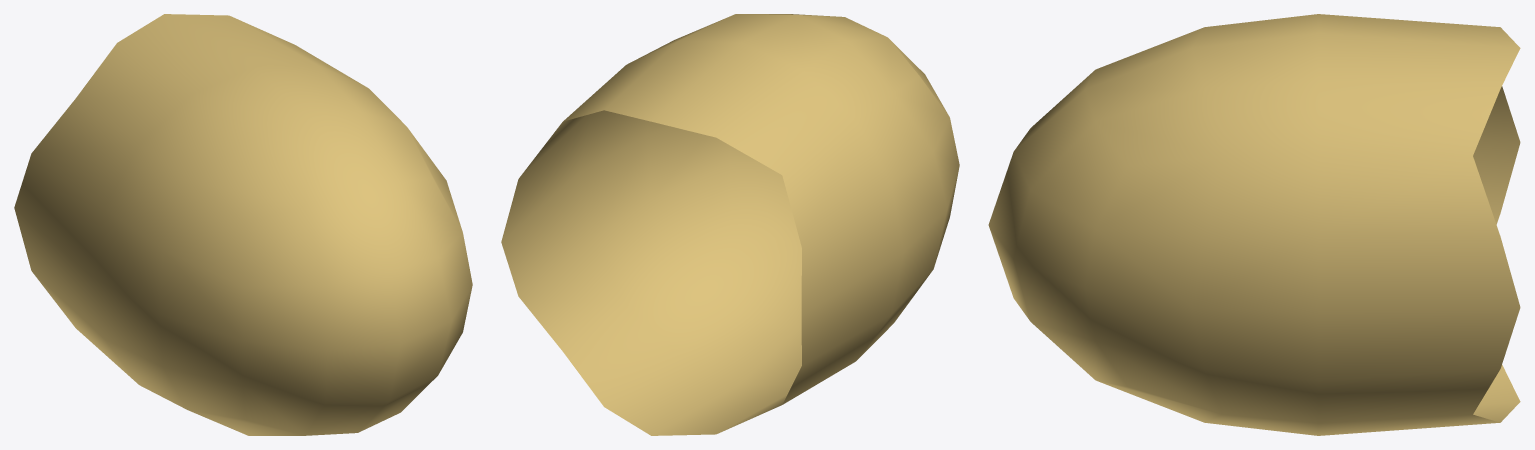
Rendered from S_FireBall_02.fbx.
3 views of the same model, side by side, from view 1: azimuth 30°, elevation 25°; view 2: azimuth 150°, elevation 25°; view 3: azimuth 270°, elevation 25° (orthographic). The views are drawn at different scales.
Visible parts, largest first — view 1: S_FireBall_02; view 2: S_FireBall_02; view 3: S_FireBall_02.
Boxes of the visible parts, bbox=[...] form: S_FireBall_02: bbox=[14, 14, 472, 435]; S_FireBall_02: bbox=[501, 14, 959, 435]; S_FireBall_02: bbox=[988, 14, 1520, 435].
Bounding box in the file's own units: 40.22 × 40.22 × 50.66.
